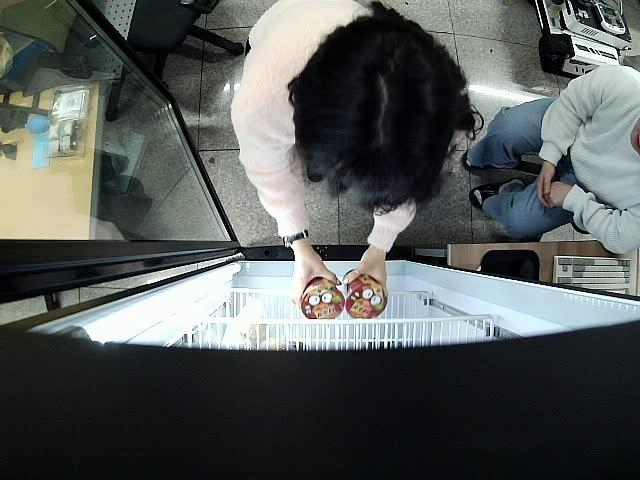06_nuguri_S: (343, 270, 387, 318), (298, 276, 345, 320)
